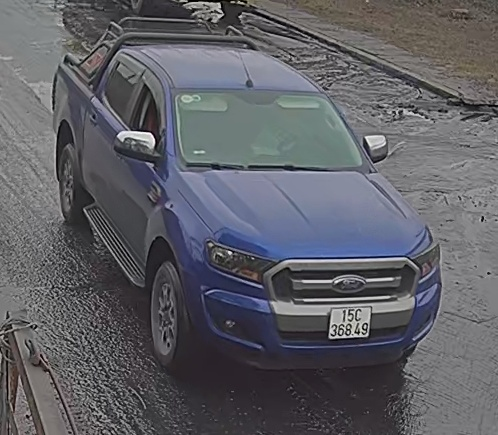vehicle plate: (325, 303, 376, 340)
